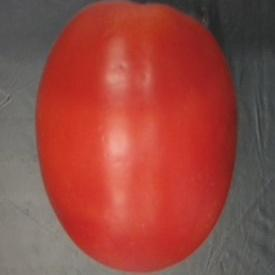unripe: (28, 0, 246, 275)
